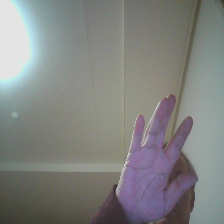hand: (117, 83, 200, 224)
